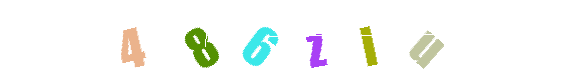4: (161, 0, 241, 80)
6: (240, 0, 320, 80)
8: (219, 0, 299, 80)
L: (276, 0, 356, 80)
U: (319, 0, 399, 80)
Z: (251, 0, 331, 80)
